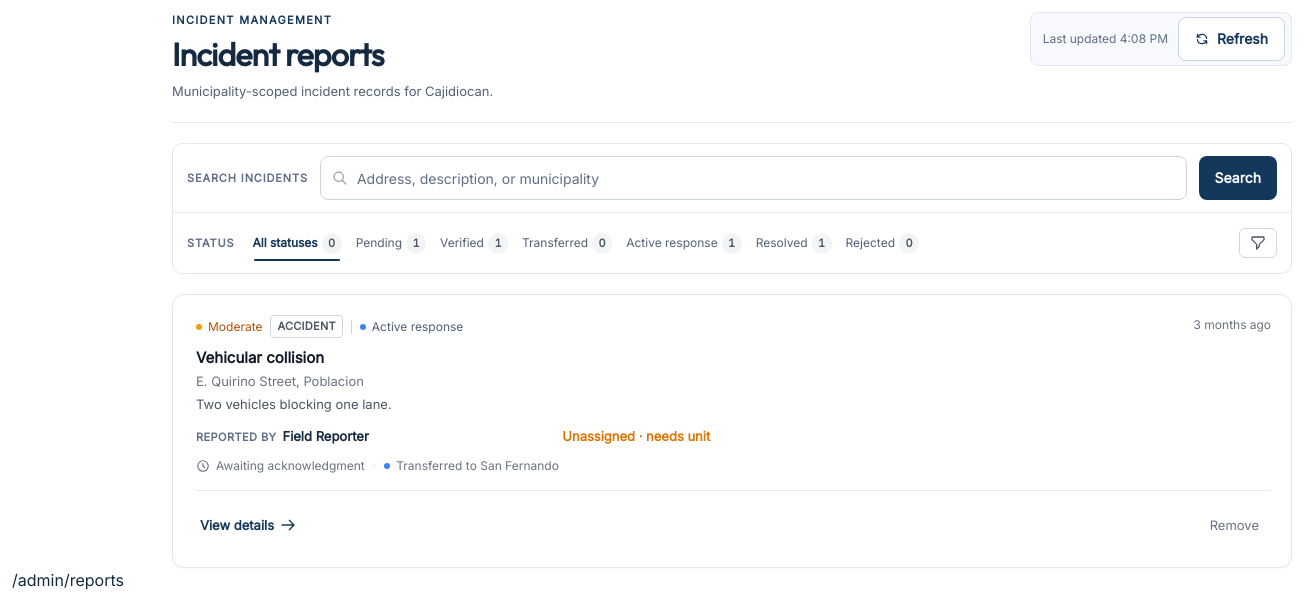
Test: AdminReportsPage operational queue › shows transfer provenance and lets the origin admin remove a transferred-out copy
Expected: the text "E. Quirino Street, Poblacion" is shown, x1=196 y1=373 x2=364 y2=389
Expected: the text "Transferred to San Fernando" is shown, x1=396 y1=456 x2=559 y2=476
Click the button with aria-label "Remove transferred report from queue".
click(1234, 525)  # box x1=1198 y1=507 x2=1271 y2=543
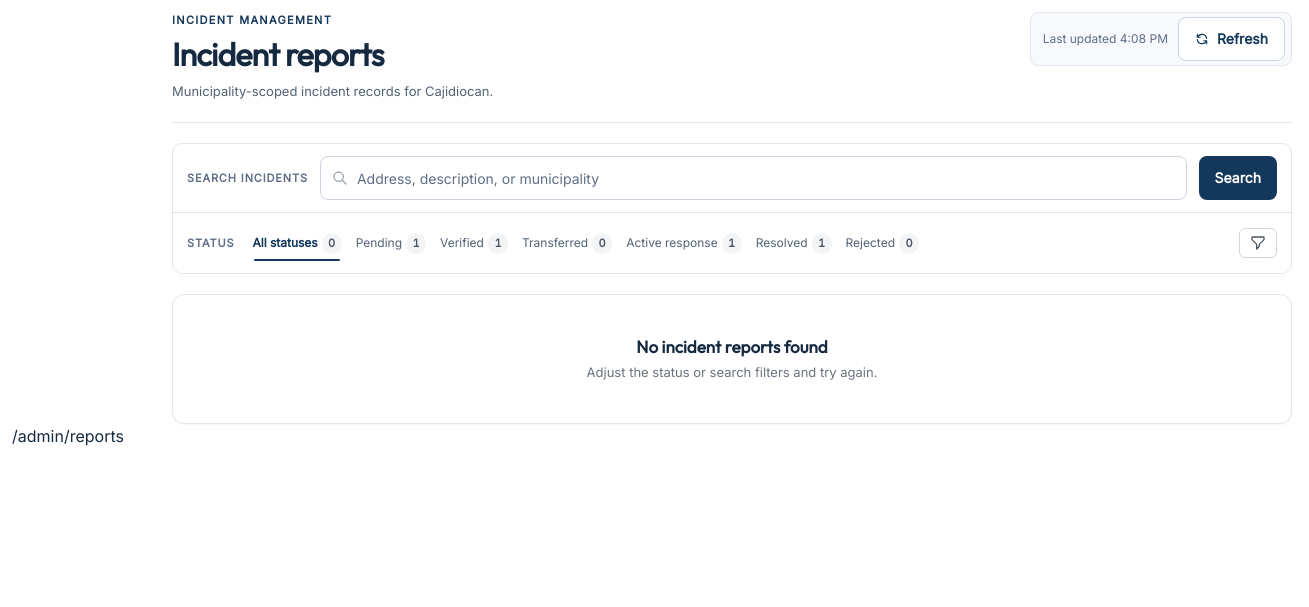
Now the text "E. Quirino Street, Poblacion" is gone
